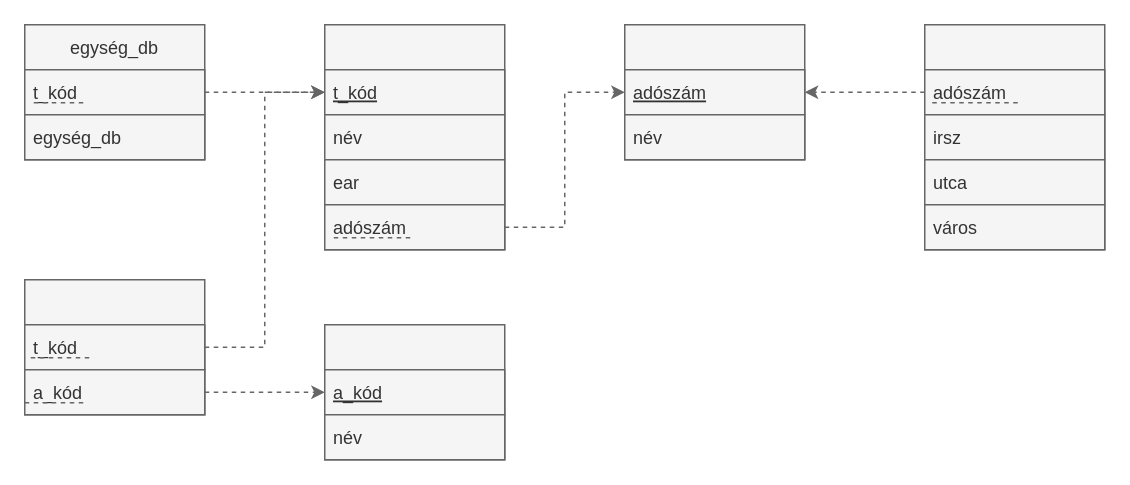
This 1130x485 diagram has some shape labels left out. The box of each missing label's shape, as (x1, y1, x2, y2) in pixels:
Alkatrész: (323, 323, 505, 460)
Gyártó: (623, 23, 805, 160)
Telephely: (923, 23, 1105, 250)
Termék: (323, 23, 505, 250)
Termék - Alkatrész: (23, 278, 205, 415)
